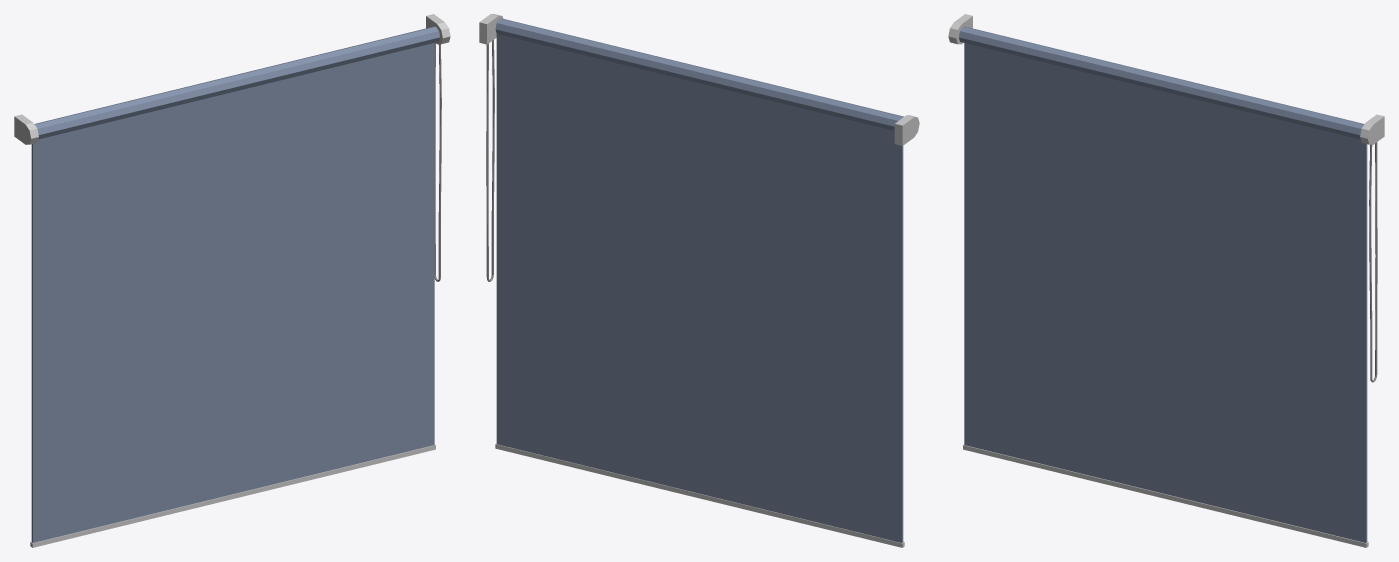
File: Curtains8_C1.fbx
3 views of the same model, side by side, from view 1: azimuth 30°, elevation 25°; view 2: azimuth 150°, elevation 25°; view 3: azimuth 330°, elevation 25° (orthographic).
Visible parts, largest first — view 1: Curtains8_C1; view 2: Curtains8_C1; view 3: Curtains8_C1.
Boxes of the visible parts, <box> form: Curtains8_C1: <box>14,14,450,547</box>; Curtains8_C1: <box>479,14,919,547</box>; Curtains8_C1: <box>948,14,1384,547</box>.
Size of the model in its own units: 137 by 133 by 9.55.
